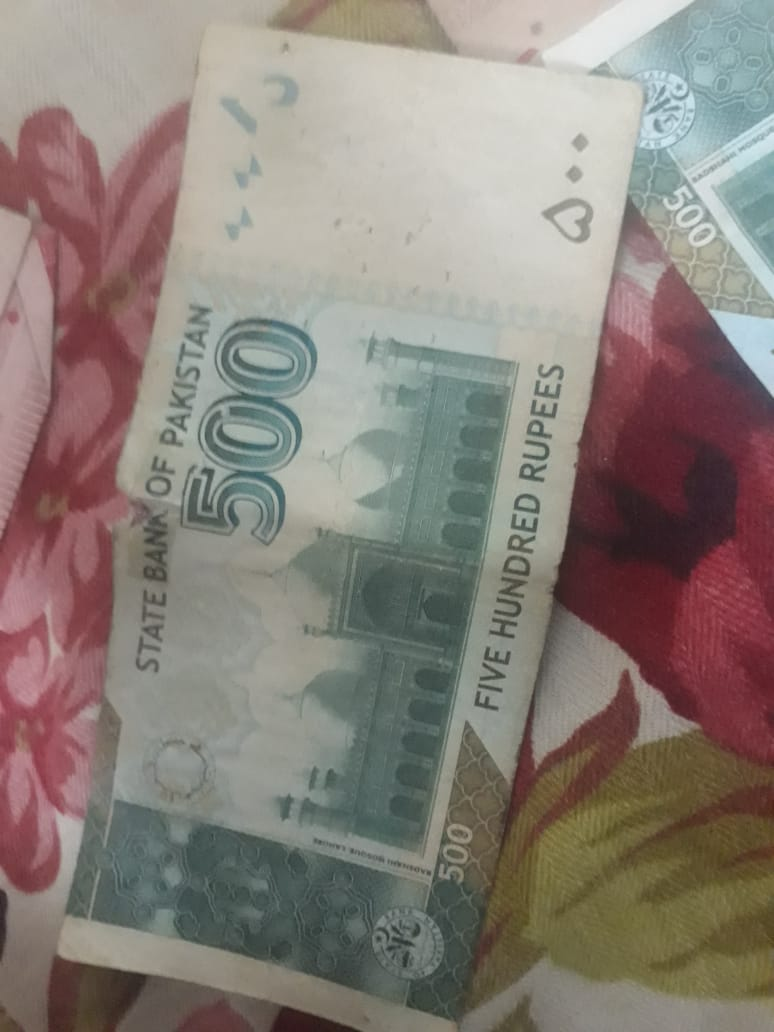500 rupee: (75, 26, 672, 1017)
